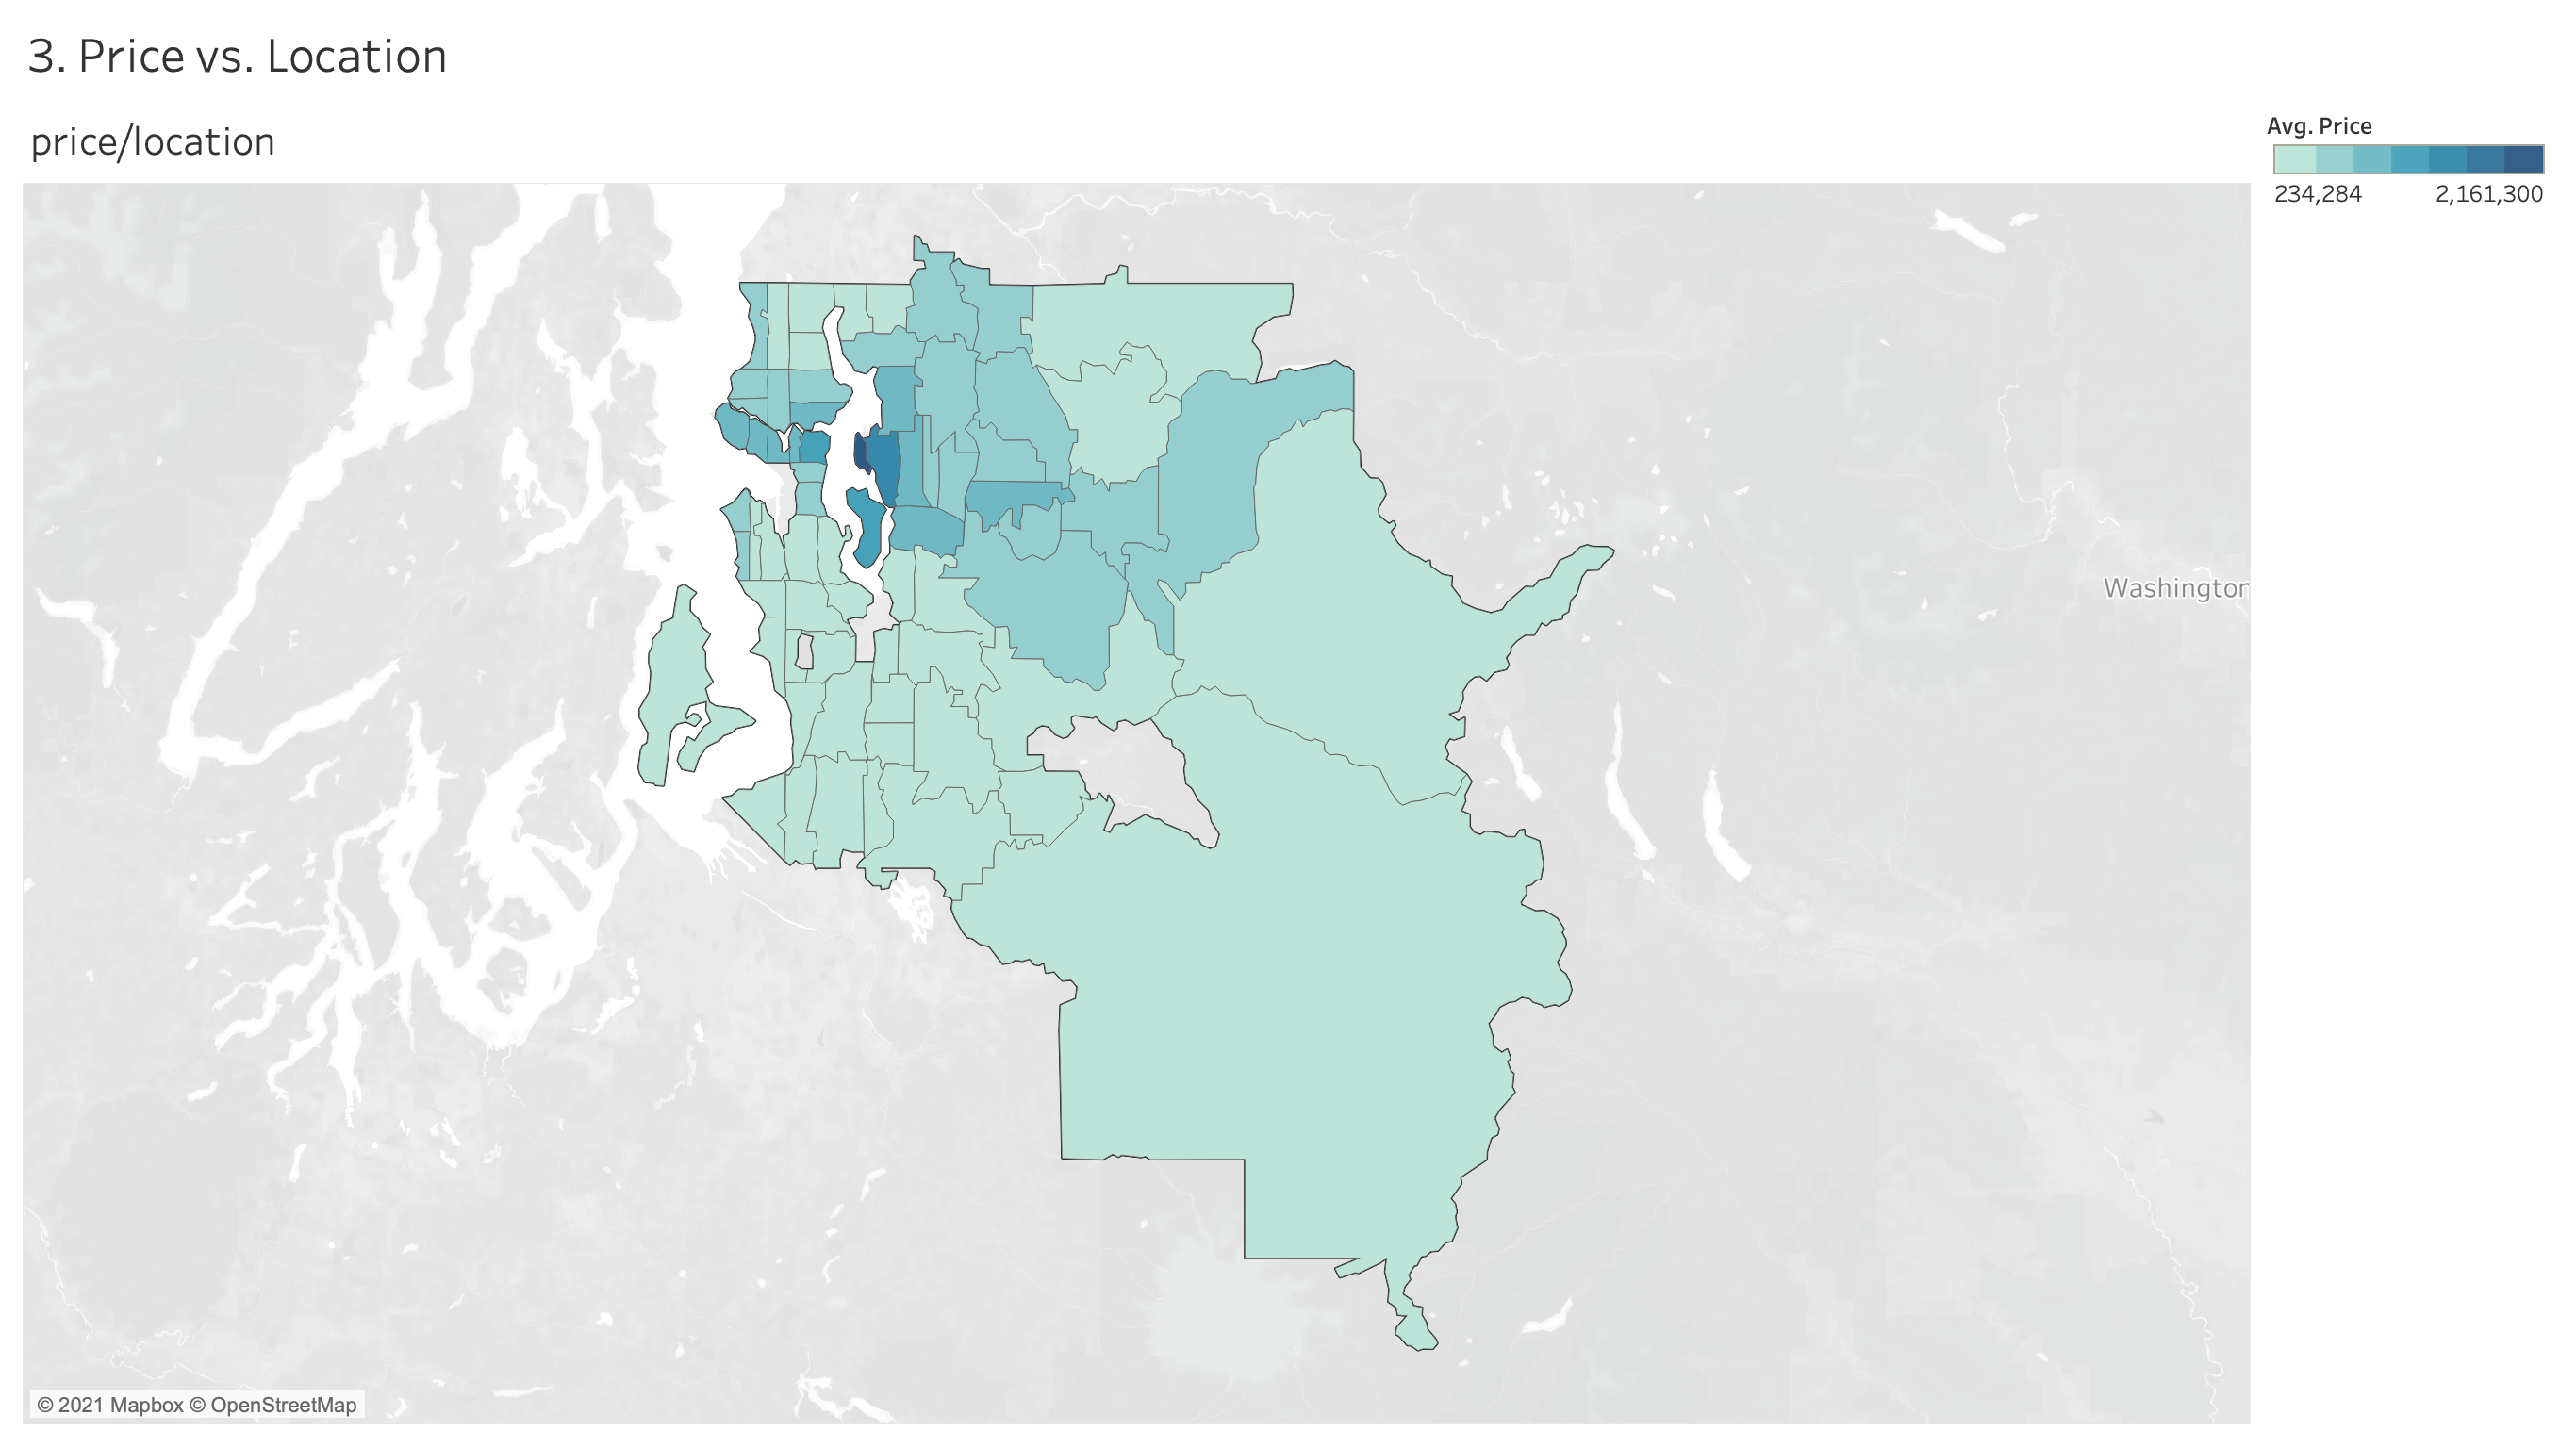

The dashboard page shown, as its layout file describes it:
{"tool":"tableau","page":{"name":"3.map","canvas":[1366,768],"ordinal":2},"visuals":[{"type":"title","box":[8,8,1350,42]},{"type":"worksheet","title":"price/location","mark":"Multipolygon","box":[8,50,1190,710]},{"type":"legend","title":"price/location","param":"[federated.0gmt6be0tg9agu1705izr08zrbze].[avg:price:qk]","box":[1198,50,160,65]}]}

Visuals, with their boxes in screenshot pixels (x1, y1, x2, y2), scaled from the page's 1366x768 canvas onto the 2576x1448 screenshot:
title: box=[15, 15, 2561, 94]
"price/location" worksheet (Multipolygon marks): box=[15, 94, 2259, 1433]
"price/location" legend: box=[2259, 94, 2561, 217]
